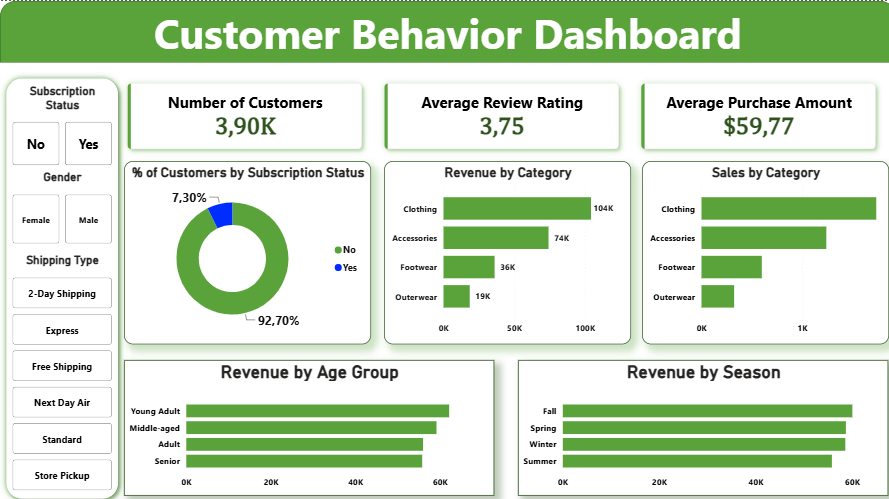

This screenshot's page, from the dashboard's own definition file:
{"tool":"powerbi","page":{"name":"Page 1","canvas":[1280,720],"ordinal":0},"visuals":[{"type":"cardVisual","fields":{"Data":["customer_clean_data.Number of Customers","customer_clean_data.Average Review Rating","customer_clean_data.Average Purchase Amount"]},"box":[152.8,88.2,1127,152.8],"z":0},{"type":"shape","box":[0,0,1279.8,88.2],"z":1000},{"type":"textbox","box":[0,0,1279.8,88.2],"z":2000},{"type":"shape","box":[0,101.4,177.8,618.6],"z":3000},{"type":"donutChart","title":"% of Customers by Subscription Status","fields":{"Category":["customer_clean_data.subscription_status"],"Y":["Sum(customer_clean_data.customer_id)"]},"box":[177.8,229.2,352.7,261.6],"z":4000},{"type":"barChart","title":"Revenue by Age Group","fields":{"Category":["customer_clean_data.age_group"],"Y":["Sum(customer_clean_data.purchase_amount)"]},"box":[177.8,512.8,529,194],"z":5000},{"type":"barChart","title":"Revenue by Category","fields":{"Category":["customer_clean_data.category"],"Y":["Sum(customer_clean_data.purchase_amount)"]},"box":[548.1,229.2,352.7,261.6],"z":6000},{"type":"clusteredBarChart","title":"Sales by Category","fields":{"Category":["customer_clean_data.category"],"Y":["CountNonNull(customer_clean_data.customer_id)"]},"box":[916.9,229.2,352.7,261.6],"z":7000},{"type":"clusteredBarChart","title":"Revenue by Season","fields":{"Category":["customer_clean_data.season"],"Y":["Sum(customer_clean_data.purchase_amount)"]},"box":[740.6,512.8,529,194],"z":8000},{"type":"advancedSlicerVisual","title":"Subscription Status","fields":{"Values":["customer_clean_data.subscription_status"]},"box":[13.2,119,152.8,122],"z":9000},{"type":"advancedSlicerVisual","title":"Gender","fields":{"Values":["customer_clean_data.gender"]},"box":[13.2,241,152.8,110.2],"z":9001},{"type":"advancedSlicerVisual","title":"Shipping Type","fields":{"Values":["customer_clean_data.shipping_type"]},"box":[13.2,360,152.8,346.8],"z":9002}]}

Visuals, with their boxes in screenshot pixels (x1, y1, x2, y2), scaled from the page's 1280x720 canvas onto the 889x499 screenshot:
cardVisual - customer_clean_data.Number of Customers x customer_clean_data.Average Review Rating: rect(106, 61, 888, 167)
shape: rect(0, 0, 888, 61)
textbox: rect(0, 0, 888, 61)
shape: rect(0, 70, 123, 498)
"% of Customers by Subscription Status" donutChart: rect(123, 159, 368, 340)
"Revenue by Age Group" barChart: rect(123, 355, 491, 490)
"Revenue by Category" barChart: rect(381, 159, 626, 340)
"Sales by Category" clusteredBarChart: rect(637, 159, 882, 340)
"Revenue by Season" clusteredBarChart: rect(514, 355, 882, 490)
"Subscription Status" advancedSlicerVisual: rect(9, 82, 115, 167)
"Gender" advancedSlicerVisual: rect(9, 167, 115, 243)
"Shipping Type" advancedSlicerVisual: rect(9, 250, 115, 490)
